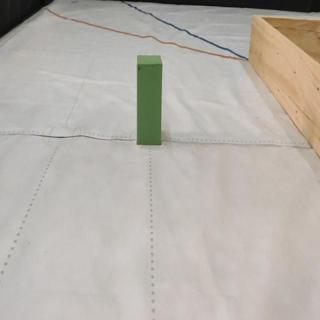greenbox: (135, 54, 164, 147)
